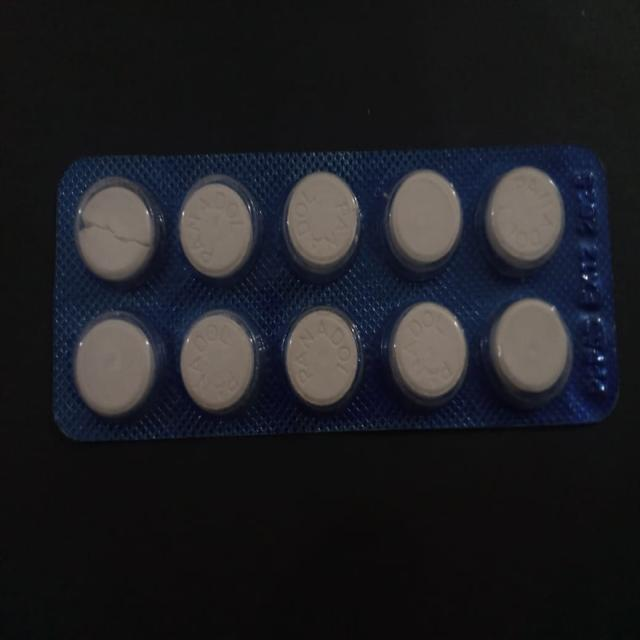defect: (73, 175, 163, 288)
